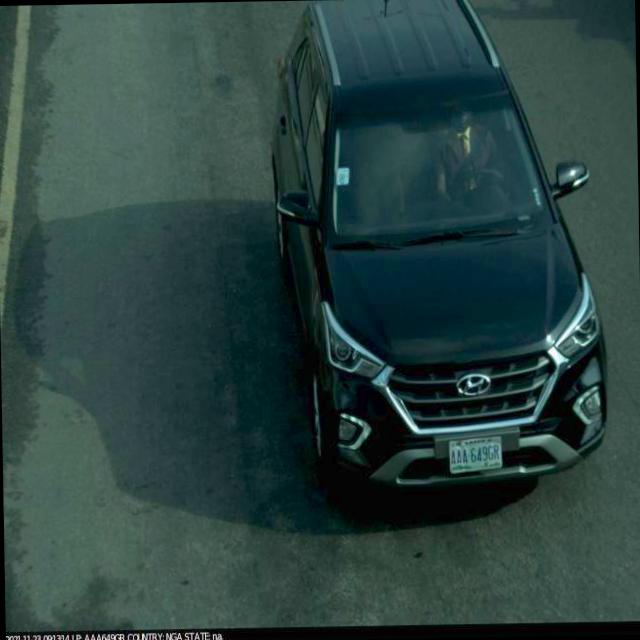person_with_seatbelt: (416, 104, 518, 226)
